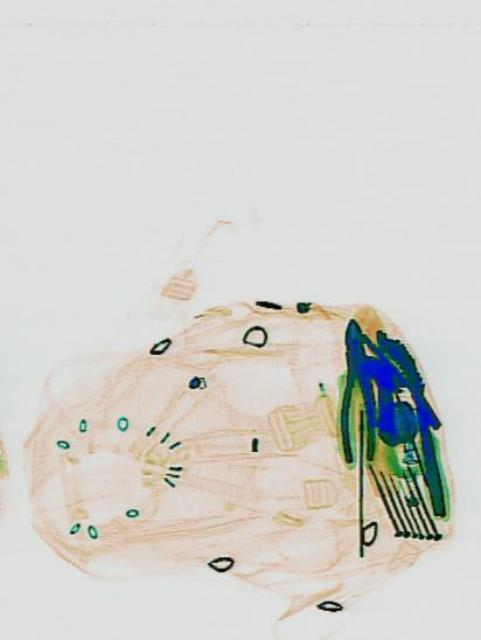Pliers: (331, 316, 376, 462)
